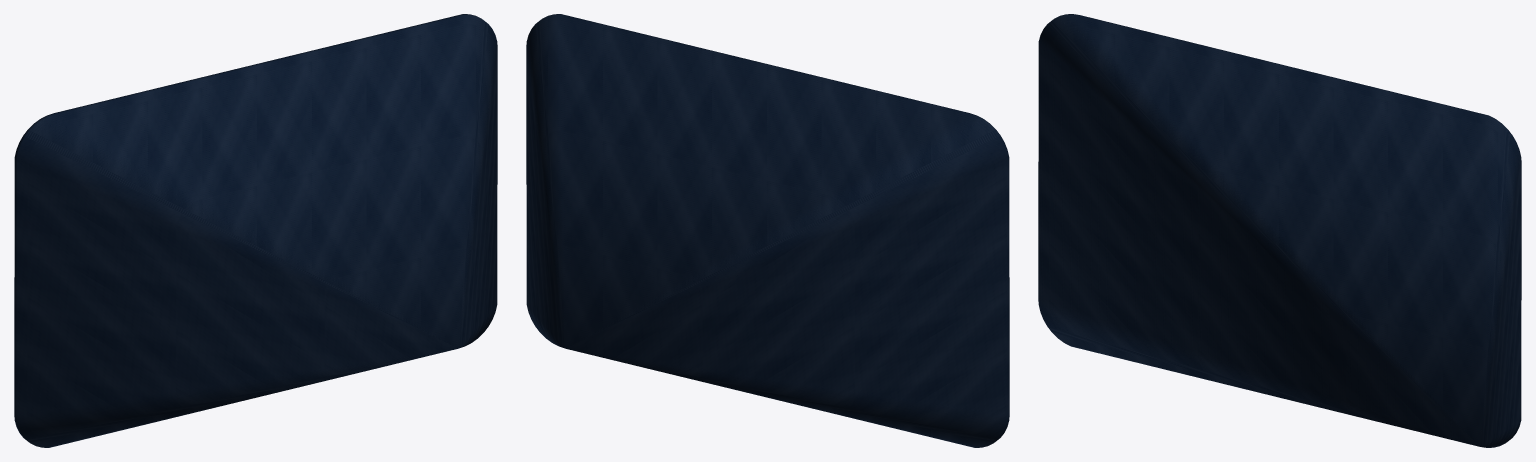
File: RUG_BLUE_PATTERN_001.glb
3 views of the same model, side by side, from view 1: azimuth 30°, elevation 25°; view 2: azimuth 150°, elevation 25°; view 3: azimuth 330°, elevation 25° (orthographic).
Parts seen in each view (by area): view 1: rug_000; view 2: rug_000; view 3: rug_000.
Boxes of the visible parts, x1,y1,x2,y2 form: rug_000: (14, 14, 497, 447); rug_000: (526, 14, 1009, 447); rug_000: (1038, 14, 1521, 447).
Size of the model in its own units: 2.2 by 1.45 by 0.018.
2 materials, 2 textured.
